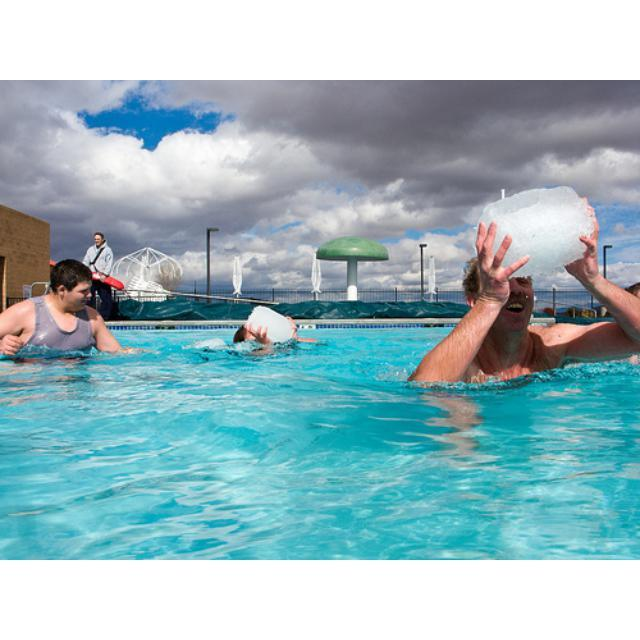human: (405, 194, 639, 387), (1, 261, 157, 358)
